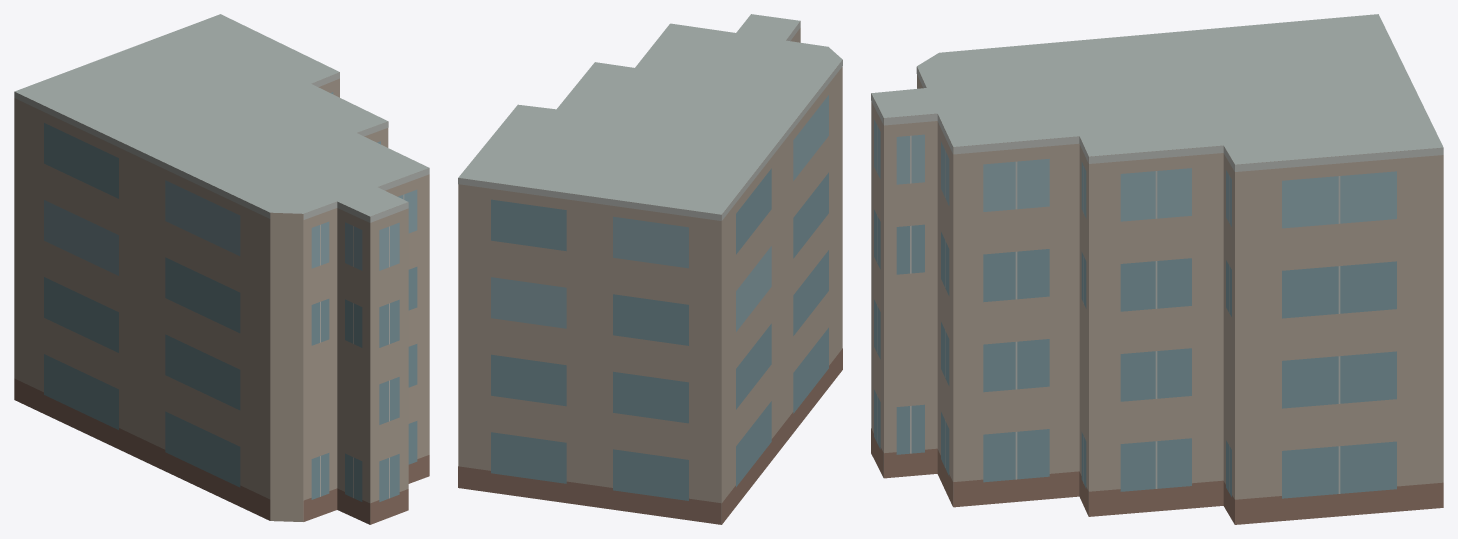
The model's file is survey-upis-32903423.glb.
3 renders of one model, left to right at view 1: azimuth 30°, elevation 25°; view 2: azimuth 150°, elevation 25°; view 3: azimuth 270°, elevation 25°, orthographic. The views are drawn at different scales.
Parts seen in each view (by area): view 1: survey-upis-32903423.tmp; view 2: survey-upis-32903423.tmp; view 3: survey-upis-32903423.tmp.
Boxes of the visible parts, <box> form: survey-upis-32903423.tmp: <box>14,14,429,524</box>; survey-upis-32903423.tmp: <box>458,14,842,524</box>; survey-upis-32903423.tmp: <box>871,14,1443,524</box>.
Size of the model in its own units: 10.59 by 11.8 by 17.
